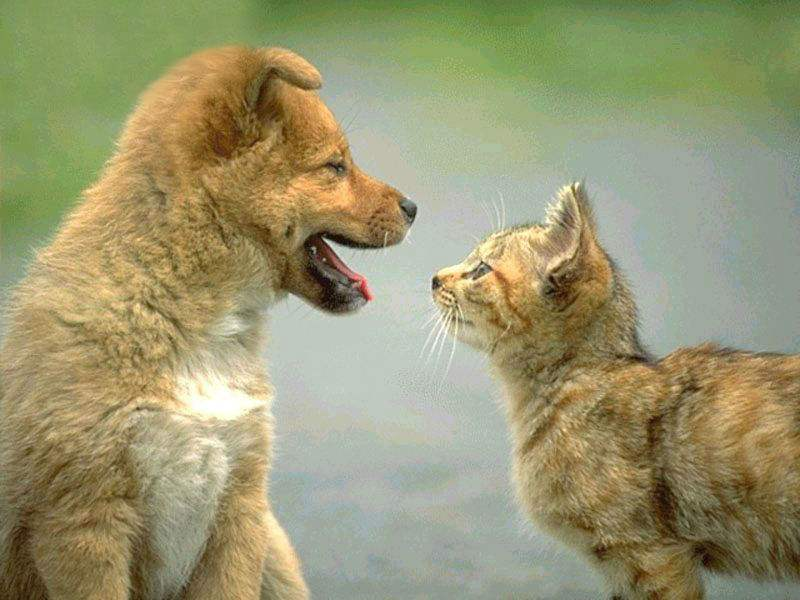cat: (3, 40, 413, 590), (431, 178, 795, 600)
